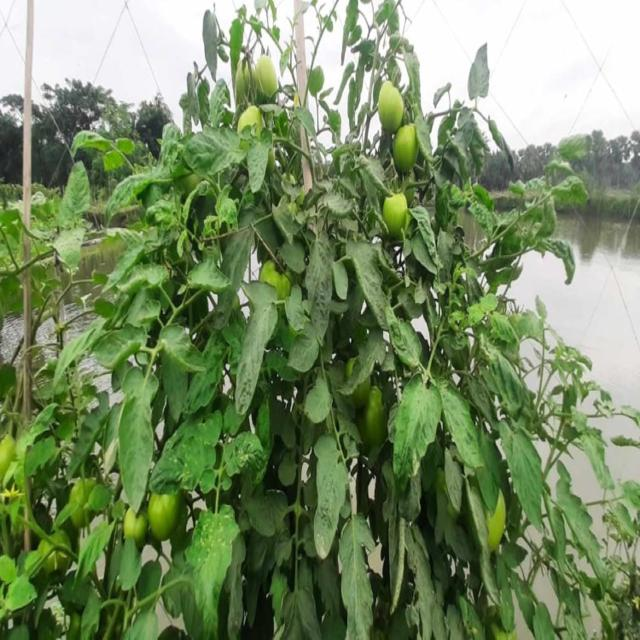tomato: (376, 79, 412, 131), (148, 488, 181, 535), (363, 386, 386, 443), (487, 501, 511, 555), (392, 121, 420, 166), (384, 191, 410, 233), (264, 259, 293, 294), (257, 51, 276, 97), (122, 506, 145, 542), (236, 61, 254, 104), (1, 435, 17, 481), (236, 108, 267, 130)
